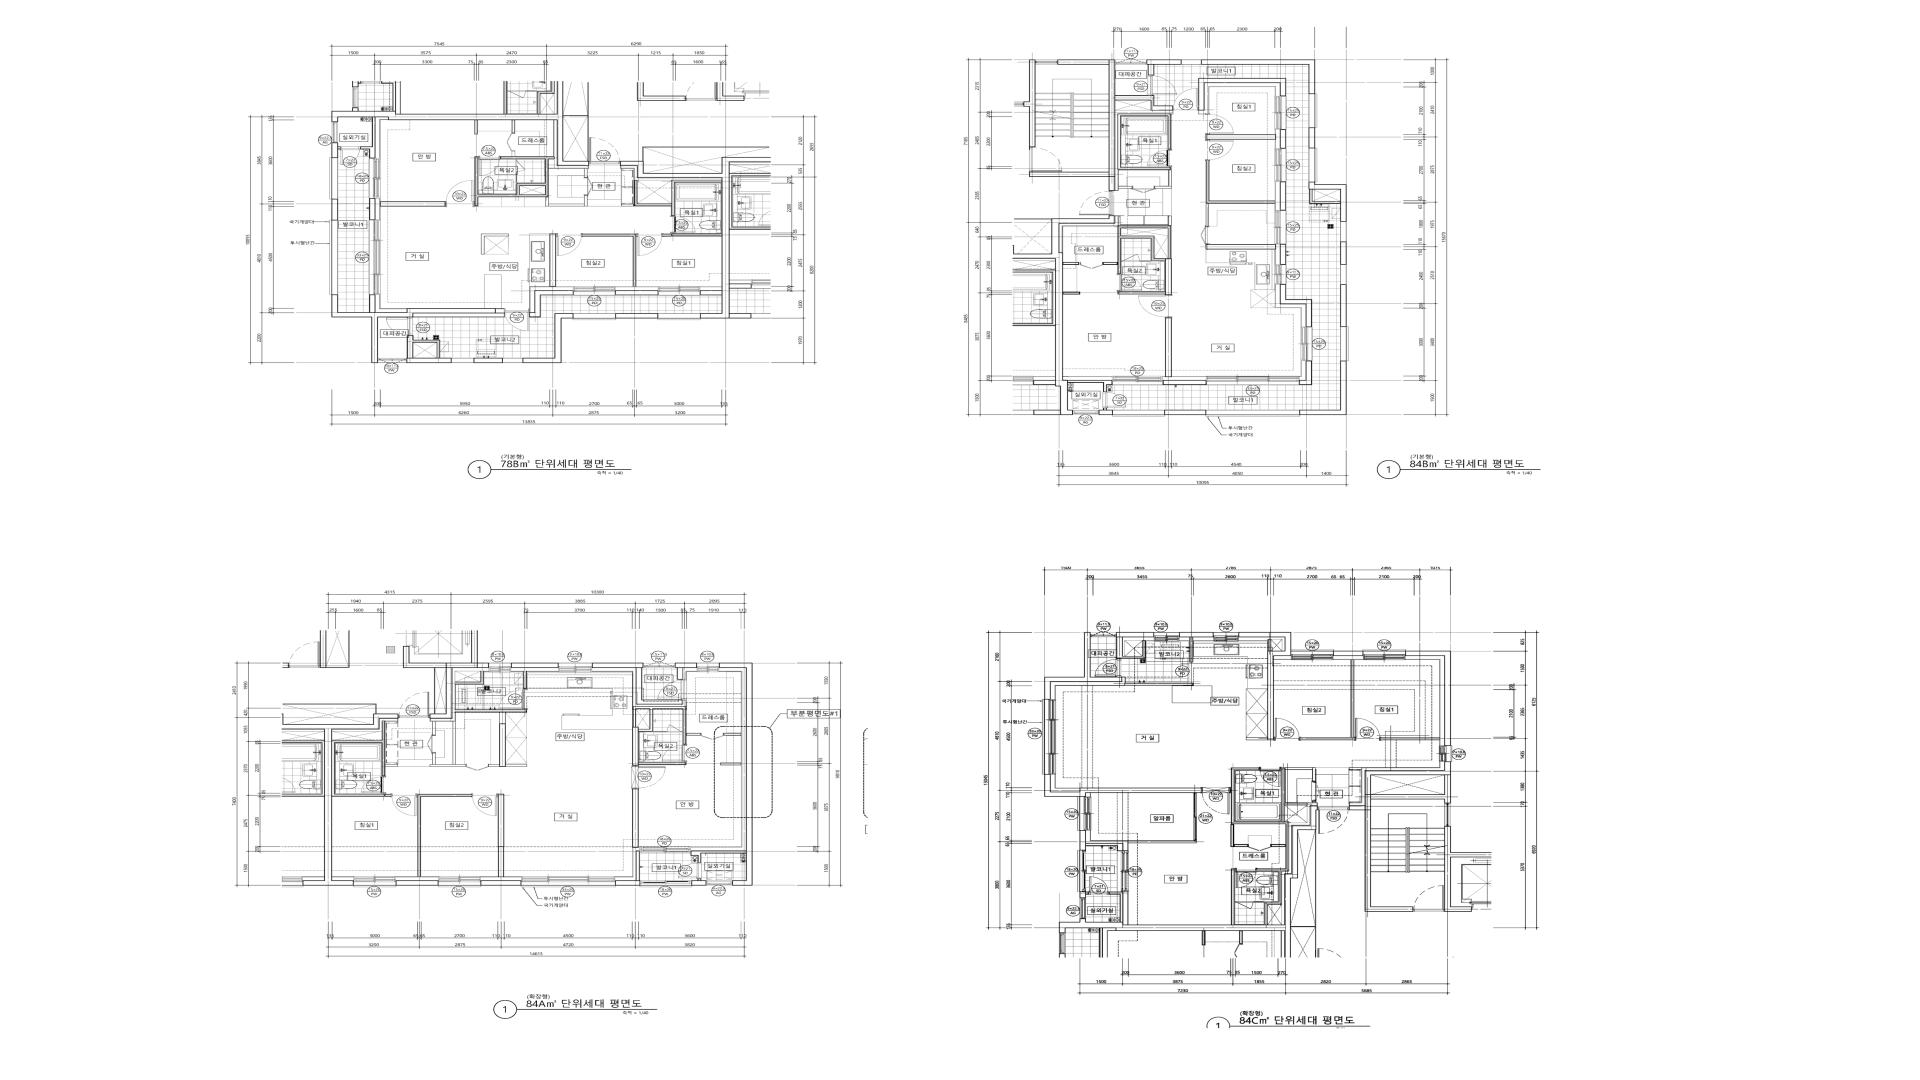door: (1317, 806, 1349, 833), (1201, 787, 1232, 815), (398, 692, 430, 719), (589, 137, 620, 164), (1414, 886, 1444, 913), (1080, 191, 1112, 216), (1029, 148, 1062, 171), (1138, 295, 1172, 318), (446, 181, 475, 207), (632, 766, 665, 789), (658, 679, 687, 700), (1172, 88, 1199, 111), (636, 233, 662, 256), (1354, 717, 1381, 740), (1274, 717, 1300, 740), (472, 794, 498, 816), (392, 794, 418, 816), (1205, 140, 1233, 161), (498, 688, 526, 709), (1147, 75, 1176, 95), (556, 233, 582, 256), (504, 309, 529, 331), (1205, 115, 1233, 135), (386, 318, 413, 335), (1095, 659, 1121, 676), (1259, 767, 1282, 787), (1147, 149, 1171, 167), (477, 157, 500, 175), (1234, 869, 1257, 887), (671, 216, 695, 233), (662, 745, 686, 762), (361, 777, 385, 794), (1118, 274, 1142, 291), (1088, 877, 1109, 895), (1102, 392, 1126, 407), (678, 862, 702, 878), (1193, 793, 1197, 840), (1312, 781, 1320, 803), (1133, 186, 1155, 193), (1249, 844, 1271, 851), (702, 733, 724, 740), (1080, 262, 1102, 269), (506, 133, 514, 152), (1234, 902, 1253, 910), (427, 735, 435, 753), (1201, 227, 1209, 244), (584, 178, 592, 195), (1091, 632, 1116, 637), (465, 765, 489, 770), (1121, 255, 1139, 261), (516, 160, 525, 171), (667, 725, 683, 732)
wall: (1059, 806, 1317, 957), (331, 82, 589, 166), (1029, 59, 1172, 191), (620, 157, 729, 319), (1349, 762, 1451, 913), (691, 663, 753, 886), (1232, 767, 1317, 924), (324, 713, 398, 886), (1055, 216, 1116, 415), (331, 294, 504, 363), (691, 667, 746, 851), (430, 669, 526, 766), (404, 646, 489, 719), (1238, 632, 1291, 740), (1044, 632, 1125, 699), (1102, 225, 1172, 295), (1205, 161, 1275, 227), (1116, 111, 1172, 191), (418, 794, 472, 877), (1300, 659, 1354, 740), (1406, 651, 1451, 746), (1444, 825, 1491, 913), (1201, 59, 1315, 94), (475, 157, 554, 206), (592, 667, 687, 707), (592, 663, 683, 704), (1044, 774, 1201, 796), (632, 707, 686, 766), (1117, 113, 1171, 170), (1199, 78, 1286, 111), (582, 233, 636, 286), (1199, 83, 1280, 115), (1300, 361, 1346, 415), (522, 314, 572, 363), (1291, 829, 1316, 927), (549, 120, 589, 178), (1059, 216, 1118, 253), (1308, 182, 1346, 222), (620, 166, 721, 181), (1371, 775, 1444, 795), (1280, 285, 1312, 327), (1275, 285, 1305, 327), (406, 335, 451, 363), (529, 290, 574, 318), (529, 286, 574, 313), (1116, 632, 1154, 658), (1080, 831, 1129, 851), (332, 719, 398, 732), (616, 851, 640, 886), (616, 847, 640, 881), (1122, 637, 1154, 657), (481, 233, 509, 255), (1029, 59, 1035, 148), (1146, 59, 1182, 75), (376, 294, 406, 313), (546, 195, 587, 207), (376, 117, 388, 158), (1109, 891, 1124, 922), (498, 794, 504, 877), (1232, 824, 1249, 848), (1166, 318, 1172, 377), (632, 789, 638, 848), (455, 671, 484, 684), (1205, 244, 1276, 249), (1205, 135, 1276, 140), (413, 343, 436, 359), (413, 314, 504, 318), (675, 663, 698, 679), (380, 202, 446, 207), (550, 233, 556, 286), (1179, 632, 1213, 641), (1299, 361, 1312, 385), (1155, 170, 1171, 189), (636, 709, 650, 729), (1340, 285, 1346, 327), (1129, 840, 1196, 844), (512, 663, 559, 669), (1333, 651, 1364, 659), (1163, 380, 1207, 385), (615, 290, 658, 295), (1269, 637, 1284, 651), (616, 314, 658, 319), (396, 881, 438, 886), (500, 724, 505, 766), (1164, 410, 1205, 415), (480, 881, 521, 886), (1063, 376, 1113, 380), (512, 667, 559, 671), (1125, 683, 1193, 686), (683, 667, 698, 679), (615, 286, 658, 290), (1163, 376, 1207, 380), (396, 877, 438, 881), (480, 877, 521, 881), (1340, 241, 1346, 265), (1381, 737, 1440, 740), (1280, 182, 1286, 211), (473, 357, 502, 363), (1275, 182, 1280, 211), (369, 198, 376, 220), (331, 142, 340, 158), (1232, 869, 1234, 924), (331, 199, 338, 220), (1308, 128, 1315, 148), (1299, 361, 1305, 380), (1098, 407, 1113, 415), (692, 878, 707, 886), (1280, 244, 1286, 265), (1275, 244, 1280, 265), (1280, 129, 1286, 149), (1275, 129, 1280, 149), (1189, 637, 1193, 662), (376, 198, 380, 220), (332, 877, 353, 881), (700, 286, 721, 290), (434, 669, 435, 713), (1246, 737, 1267, 740), (524, 671, 526, 688), (1080, 891, 1087, 898), (686, 733, 702, 736), (475, 120, 477, 135), (512, 120, 514, 133), (1349, 767, 1361, 770), (505, 765, 527, 766), (1168, 216, 1171, 225), (653, 731, 667, 732), (621, 204, 634, 206), (1253, 902, 1265, 903), (385, 765, 397, 766), (516, 171, 517, 182), (512, 152, 514, 157), (489, 765, 500, 766), (1087, 891, 1088, 894), (1139, 261, 1150, 261)
window: (1042, 699, 1056, 774), (521, 877, 616, 887), (1207, 376, 1299, 385), (369, 220, 380, 294), (1205, 410, 1300, 417), (330, 220, 338, 295), (1113, 376, 1163, 385), (1291, 649, 1335, 659), (1077, 796, 1091, 831), (353, 877, 396, 887), (438, 877, 480, 887), (1364, 649, 1406, 659), (369, 158, 380, 198), (658, 286, 700, 295), (1077, 851, 1087, 891), (574, 286, 615, 295), (1302, 327, 1312, 361), (640, 881, 692, 887), (1275, 96, 1286, 129), (1275, 149, 1286, 182), (1275, 211, 1286, 244), (1113, 410, 1164, 417), (330, 158, 338, 199), (1121, 851, 1129, 891), (1340, 327, 1349, 361), (1308, 148, 1317, 182), (558, 663, 592, 673), (1308, 94, 1317, 128), (572, 314, 616, 320), (658, 314, 700, 320), (640, 847, 691, 852), (1213, 632, 1238, 641), (1154, 632, 1179, 641), (1275, 265, 1286, 285), (489, 663, 512, 673), (1116, 58, 1146, 65), (698, 663, 719, 673), (1440, 746, 1452, 762), (644, 662, 675, 667), (1444, 803, 1451, 827), (378, 359, 407, 364), (1080, 898, 1087, 919), (1073, 410, 1098, 415), (331, 123, 338, 142), (1340, 265, 1346, 285), (1340, 222, 1346, 241), (1035, 59, 1058, 65), (451, 357, 473, 363), (502, 357, 522, 363), (1182, 59, 1201, 65), (707, 881, 732, 885)
